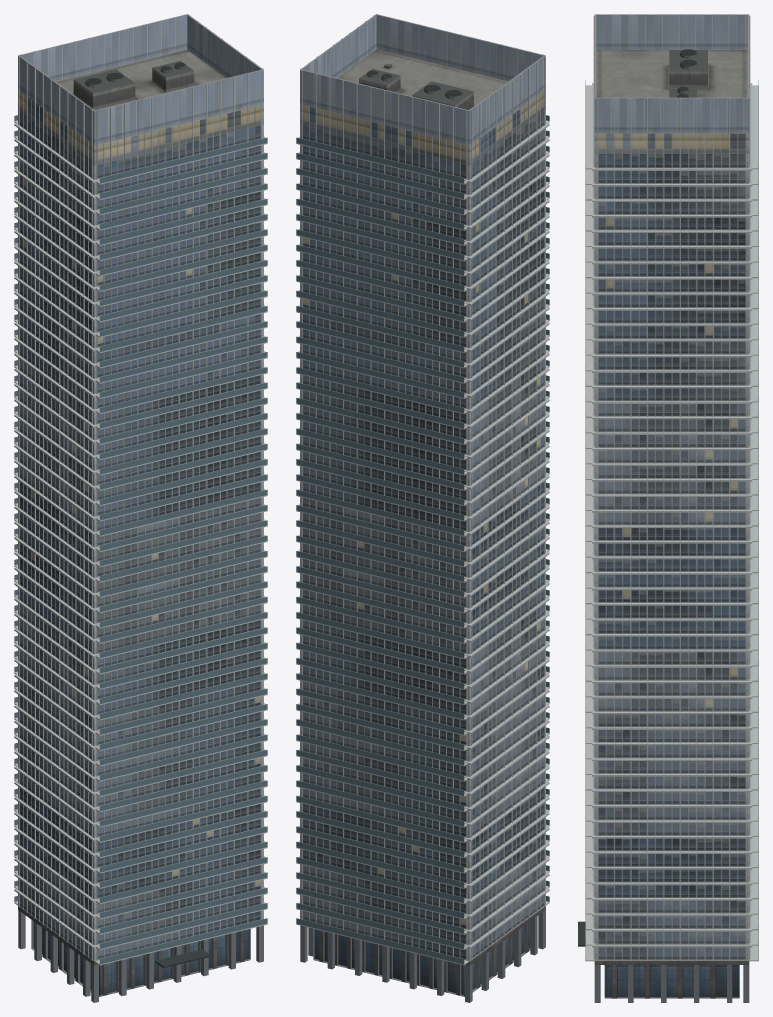
Rendered from seattle_condotower_c.glb.
The picture shows the model from 3 angles, left to right: view 1: azimuth 30°, elevation 25°; view 2: azimuth 150°, elevation 25°; view 3: azimuth 270°, elevation 25°; orthographic projection.
Visible parts, largest first — view 1: seattle_condotower_c; view 2: seattle_condotower_c; view 3: seattle_condotower_c.
Boxes of the visible parts, <box> form: seattle_condotower_c: <box>14,14,267,1002</box>; seattle_condotower_c: <box>296,14,549,1002</box>; seattle_condotower_c: <box>578,14,758,1002</box>.
Size of the model in its own units: 36.99 by 181 by 32.7.
1 material, 1 textured.
